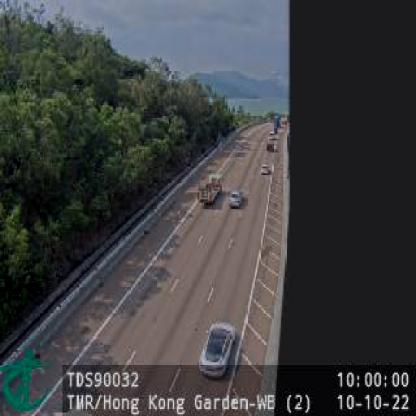Car: (198, 322, 239, 376), (228, 191, 242, 208), (260, 162, 269, 174)
Truck: (199, 173, 221, 206)
